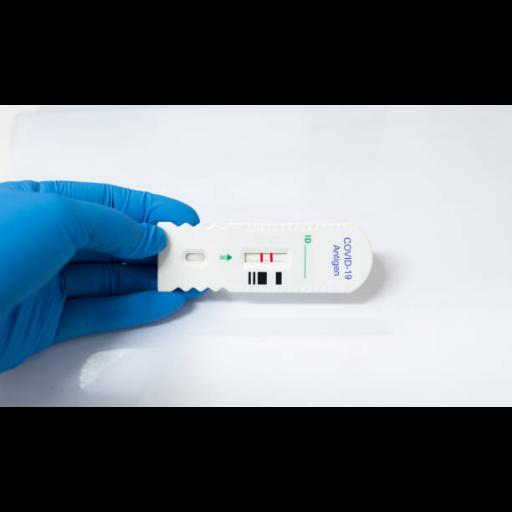Pos: (158, 221, 374, 293)
